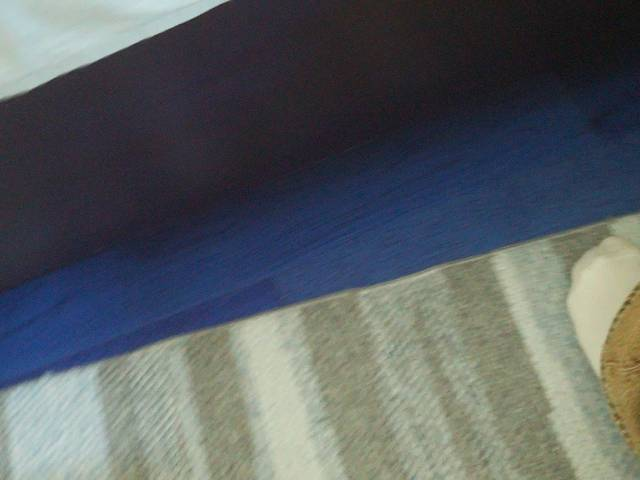boulder: (0, 0, 228, 98), (0, 366, 113, 480), (566, 237, 640, 376)
shadow: (126, 277, 275, 347)
